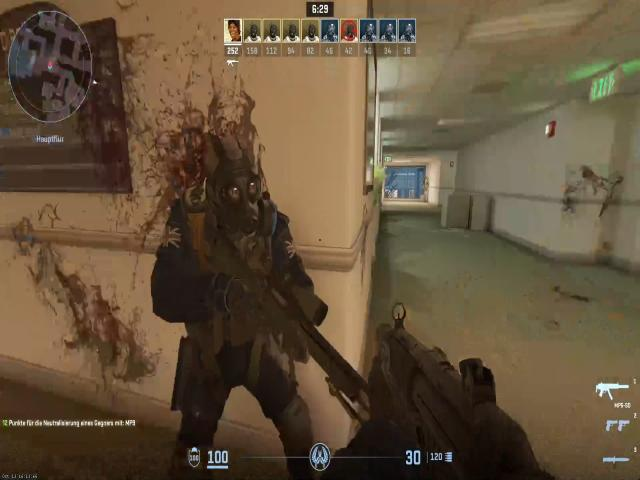CT: (172, 138, 306, 395)
CT-Head: (200, 131, 267, 248)
